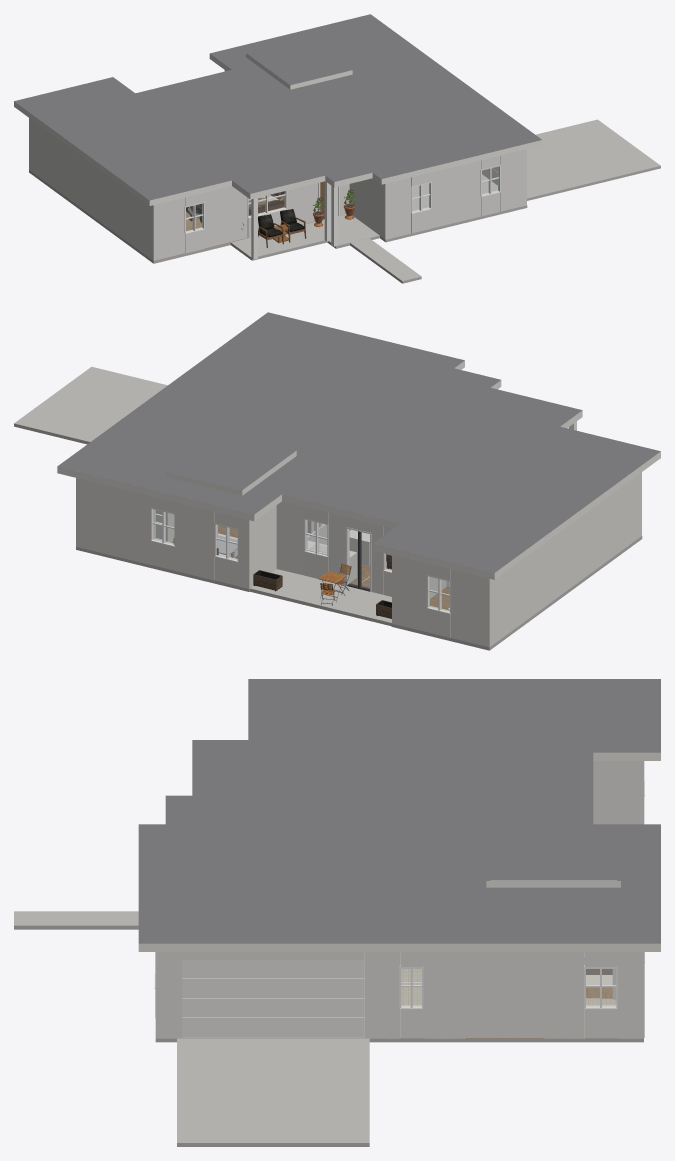
Rendered from house.glb.
3 renders of one model, top to bottom at view 1: azimuth 30°, elevation 25°; view 2: azimuth 150°, elevation 25°; view 3: azimuth 270°, elevation 25°, orthographic. The views are drawn at different scales.
Parts seen in each view (by area): view 1: CEIL, ARCH, GLASS_panes, modern_arm_chair_01.002, modern_arm_chair_01.003; view 2: CEIL, ARCH, GLASS_panes; view 3: CEIL, ARCH, GLASS_panes.
Part boxes in pixels (x1,y1,x2,y2): CEIL: [14, 14, 542, 205]; ARCH: [29, 70, 660, 283]; GLASS_panes: [186, 167, 498, 231]; modern_arm_chair_01.002: [258, 214, 283, 247]; modern_arm_chair_01.003: [280, 209, 306, 242]; CEIL: [57, 312, 660, 579]; ARCH: [14, 366, 642, 650]; GLASS_panes: [153, 509, 449, 611]; CEIL: [138, 679, 660, 951]; ARCH: [14, 761, 644, 1146]; GLASS_panes: [401, 969, 615, 1006].
Size of what is drawn, in the model's own units: 22.84 by 3.32 by 17.26.
Materials: 52 (31 with a texture image).
